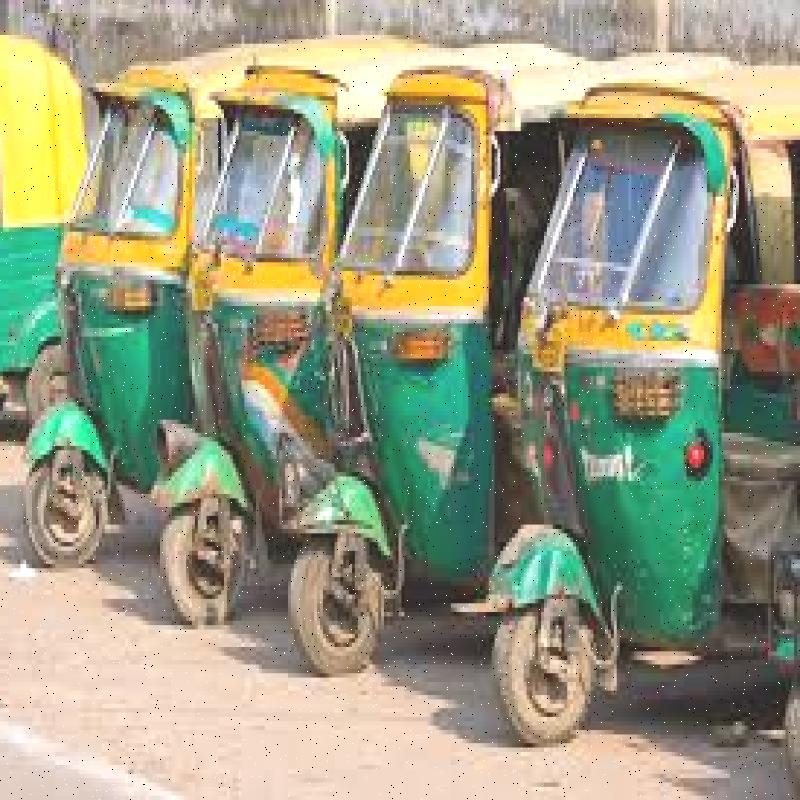auto: (512, 48, 793, 736), (318, 65, 490, 741), (169, 80, 336, 672), (20, 58, 190, 562)
